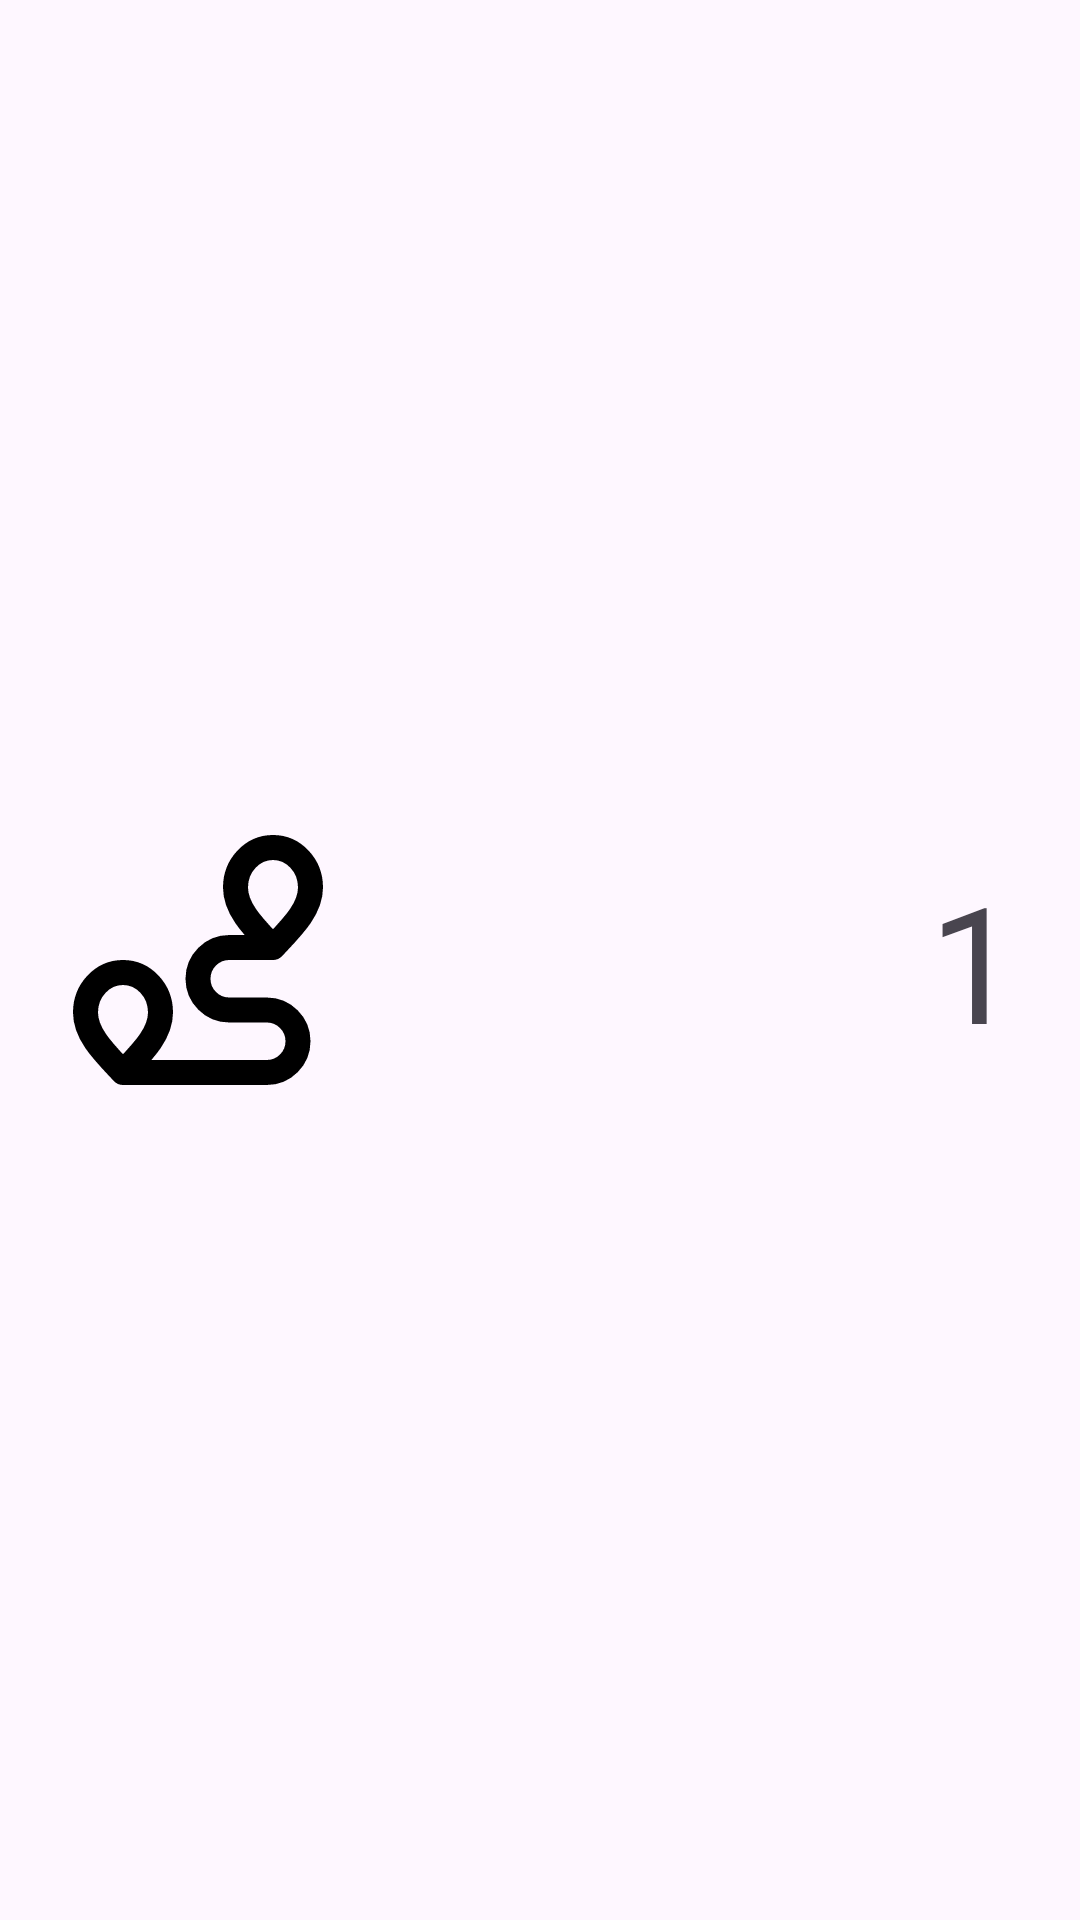

Icon click points for this 1080 x 1920 phone screenshot, format (x=x, y=y):
route: (x=198, y=960)
